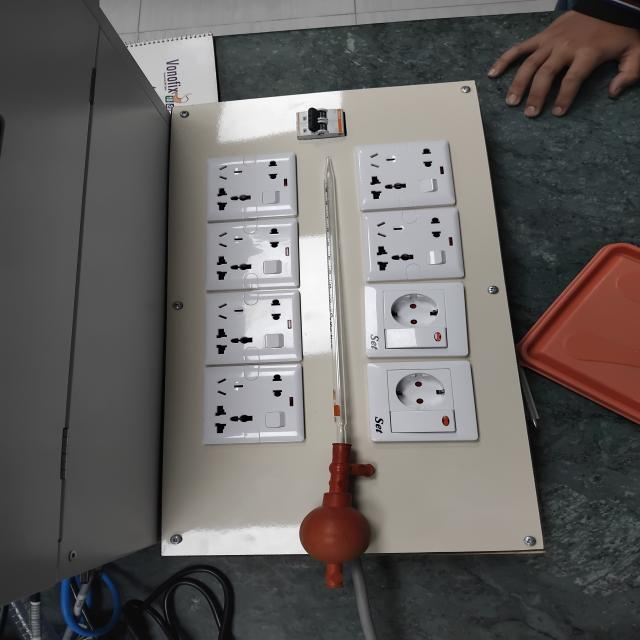Volumetric_Pipet: (265, 125, 440, 605)
